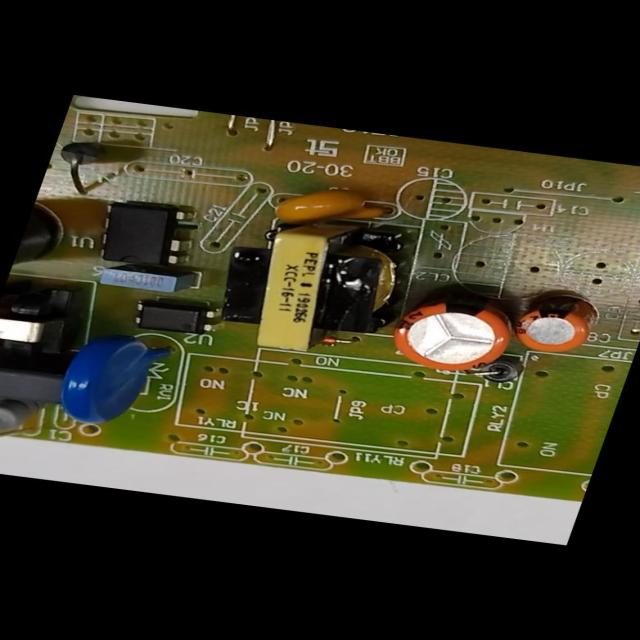Cap1: (383, 292, 518, 376)
Cap2: (510, 294, 602, 356)
MOSFET: (88, 200, 194, 269)
Mov: (52, 334, 167, 428)
Resistor: (0, 400, 41, 443)
Transformer: (207, 215, 410, 358), (0, 291, 52, 359)
